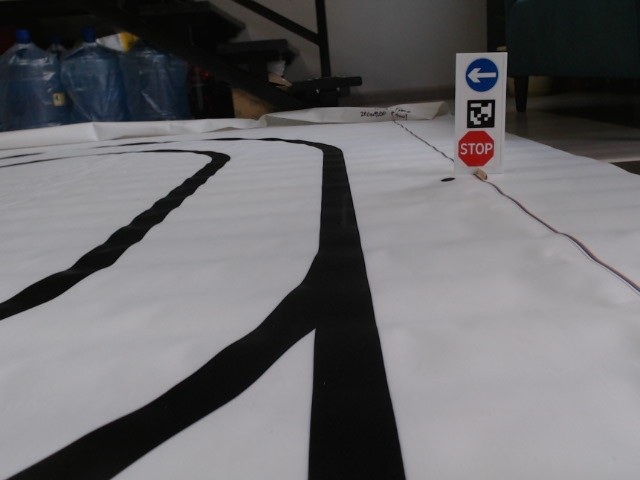Stop: (457, 129, 495, 168)
